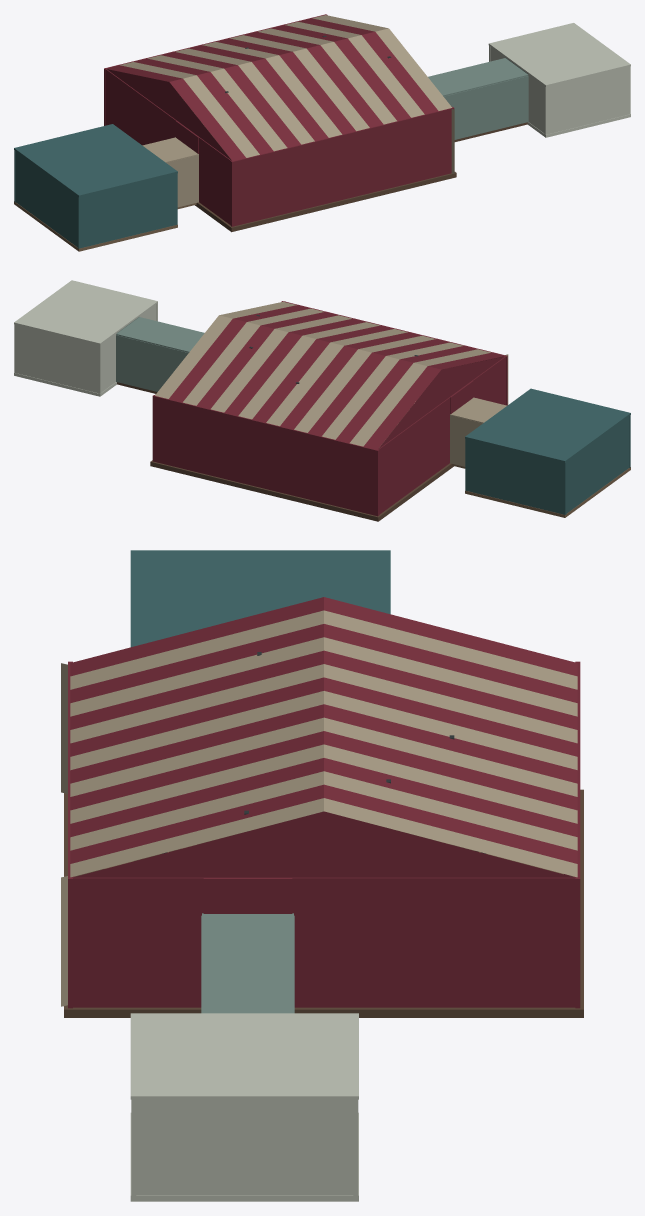
Rendered from chapter_location.glb.
The picture shows the model from 3 angles, top to bottom: view 1: azimuth 30°, elevation 25°; view 2: azimuth 150°, elevation 25°; view 3: azimuth 270°, elevation 25°; orthographic projection. The views are drawn at different scales.
Parts seen in each view (by area): view 1: End canvas.001, Dressing ceiling, Dressing end.001, Clinic ceiling, Clinic end.001, Service wall.001, Dressing wall, Main side wall, Canvas gable, Main side wall.001, Service ceiling, Striped tent roof.011 (+23 smaller); view 2: End canvas, Dressing ceiling, Dressing end, Clinic ceiling, Main side wall, Clinic end, Dressing wall, Service wall, Canvas gable, Main floor, Striped tent roof.009, Striped tent roof.010 (+23 smaller); view 3: Main side wall.002, Clinic side.002, Clinic ceiling, Dressing ceiling, Canvas gable.001, Main side wall.003, Service ceiling, Striped tent roof.004, Striped tent roof, Striped tent roof.009, Striped tent roof.001, Striped tent roof.005 (+18 smaller).
Boxes of the visible parts, x1=… form: End canvas.001: x1=230, y1=107, x2=454, y2=226; Dressing ceiling: x1=14, y1=124, x2=177, y2=197; Dressing end.001: x1=77, y1=173, x2=177, y2=248; Clinic ceiling: x1=488, y1=23, x2=630, y2=86; Clinic end.001: x1=544, y1=66, x2=630, y2=134; Service wall.001: x1=444, y1=76, x2=528, y2=139; Dressing wall: x1=15, y1=151, x2=77, y2=247; Main side wall: x1=105, y1=69, x2=176, y2=145; Canvas gable: x1=107, y1=69, x2=231, y2=160; Main side wall.001: x1=198, y1=137, x2=232, y2=224; Service ceiling: x1=428, y1=58, x2=528, y2=96; Striped tent roof.011: x1=257, y1=28, x2=396, y2=124; End canvas: x1=152, y1=395, x2=379, y2=516; Dressing ceiling: x1=465, y1=388, x2=630, y2=462; Dressing end: x1=465, y1=438, x2=566, y2=514; Clinic ceiling: x1=14, y1=280, x2=157, y2=344; Main side wall: x1=378, y1=397, x2=450, y2=514; Clinic end: x1=14, y1=324, x2=101, y2=393; Dressing wall: x1=566, y1=416, x2=629, y2=513; Service wall: x1=116, y1=335, x2=188, y2=391; Canvas gable: x1=378, y1=356, x2=504, y2=448; Main floor: x1=150, y1=460, x2=453, y2=521; Striped tent roof.009: x1=238, y1=322, x2=380, y2=419; Striped tent roof.010: x1=224, y1=318, x2=365, y2=415; Main side wall.002: x1=292, y1=876, x2=577, y2=1007; Clinic side.002: x1=136, y1=1099, x2=353, y2=1195; Clinic ceiling: x1=130, y1=1013, x2=358, y2=1099; Dressing ceiling: x1=130, y1=550, x2=390, y2=647; Canvas gable.001: x1=73, y1=811, x2=575, y2=877; Main side wall.003: x1=70, y1=876, x2=203, y2=1007; Service ceiling: x1=202, y1=913, x2=293, y2=1013; Striped tent roof.004: x1=70, y1=650, x2=577, y2=729; Striped tent roof: x1=70, y1=597, x2=577, y2=676; Striped tent roof.009: x1=70, y1=717, x2=577, y2=796; Striped tent roof.001: x1=70, y1=610, x2=577, y2=689; Striped tent roof.005: x1=70, y1=664, x2=577, y2=743.
Bounding box in the file's own units: 40.2 × 7.16 × 16.5.
